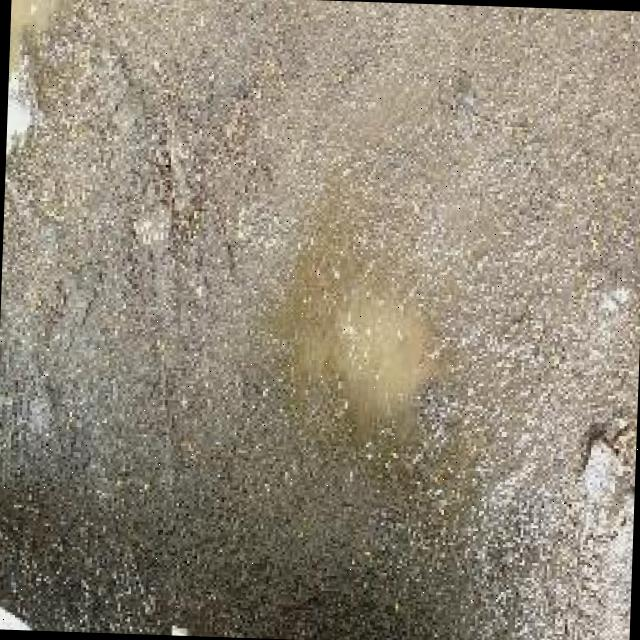stagnation: (326, 297, 443, 443)
